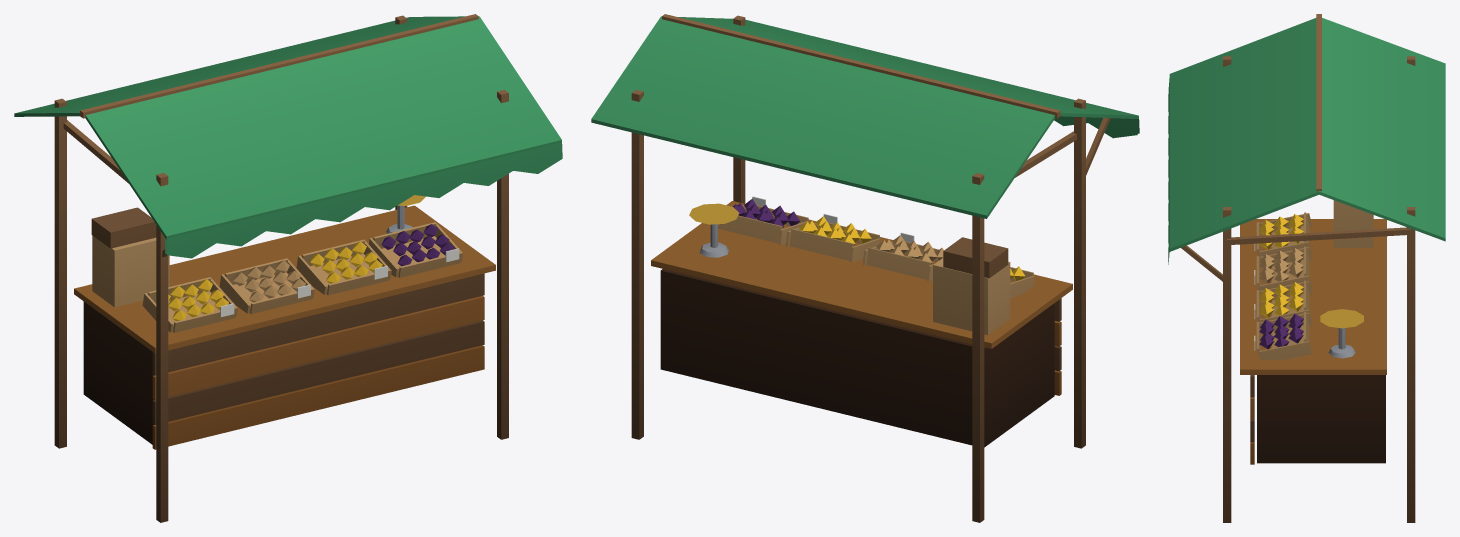
The model's file is Market_Stall_B.fbx.
The picture shows the model from 3 angles, left to right: view 1: azimuth 30°, elevation 25°; view 2: azimuth 150°, elevation 25°; view 3: azimuth 270°, elevation 25°; orthographic projection. The views are drawn at different scales.
Parts seen in each view (by area): view 1: Market_Stall_B_LOD0; view 2: Market_Stall_B_LOD0; view 3: Market_Stall_B_LOD0.
Boxes of the visible parts, x1,y1,x2,y2 form: Market_Stall_B_LOD0: (14, 14, 562, 522); Market_Stall_B_LOD0: (591, 14, 1139, 522); Market_Stall_B_LOD0: (1168, 14, 1445, 522).
Size of what is drawn, in the model's own units: 3.62 by 3.3 by 2.41.
Materials: 1 (1 with a texture image).
